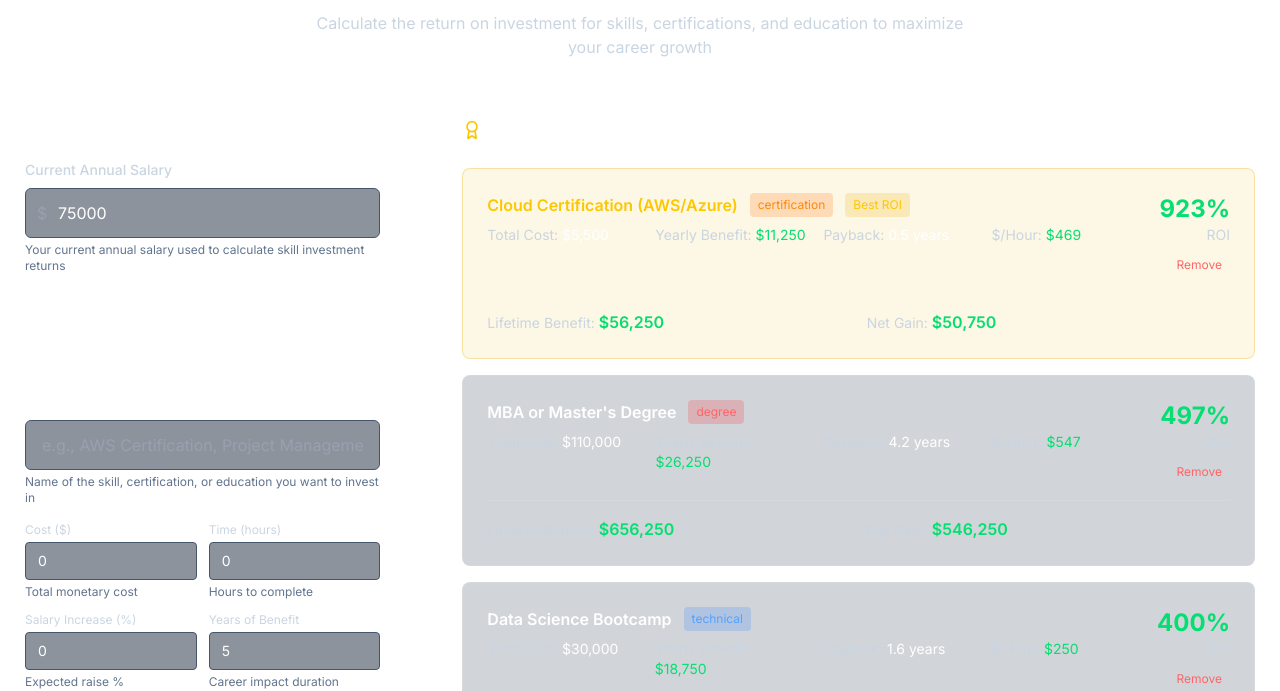
Test case: SkillInvestmentROICalculator › add skill button becomes enabled when required fields are filled
// Fill required fields
Type "Test Certification" into the field labelled "Skill/Certification Name". click: point(203, 445)
box: [25,420,380,470]
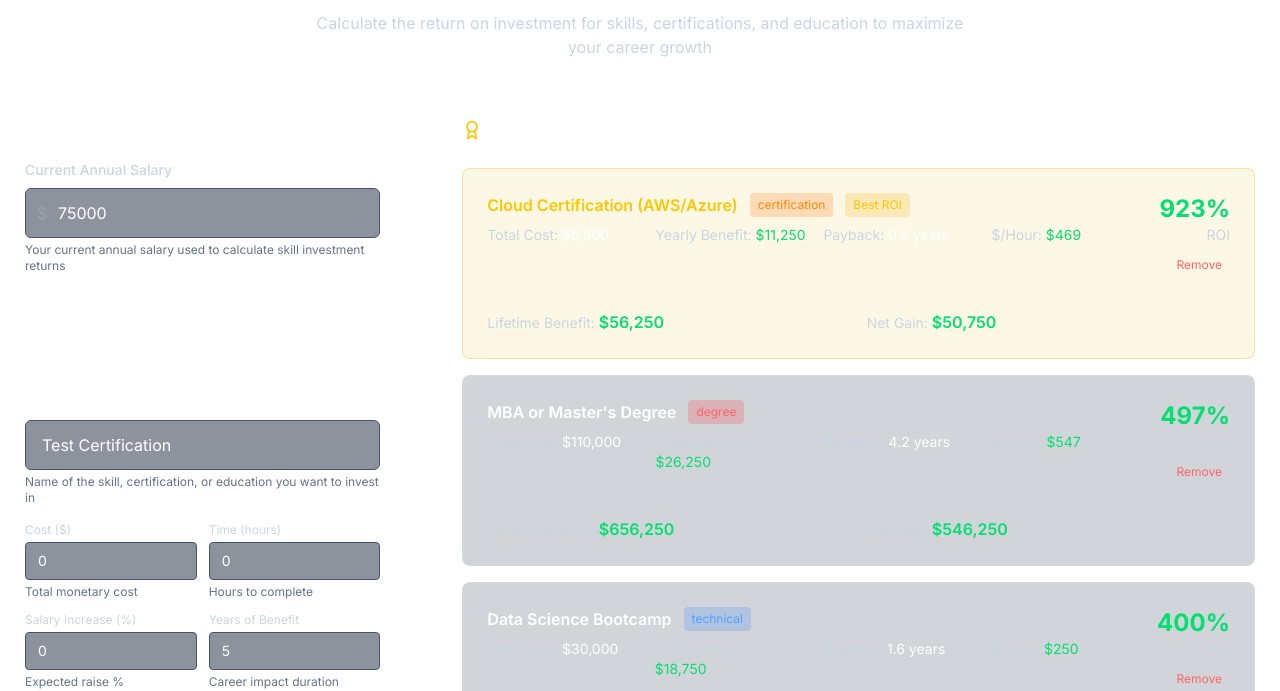
Replace the text in the number field labelled "Cost ($)" with "1000". click: point(111, 561)
box: [25,542,197,580]
(page scrolled)
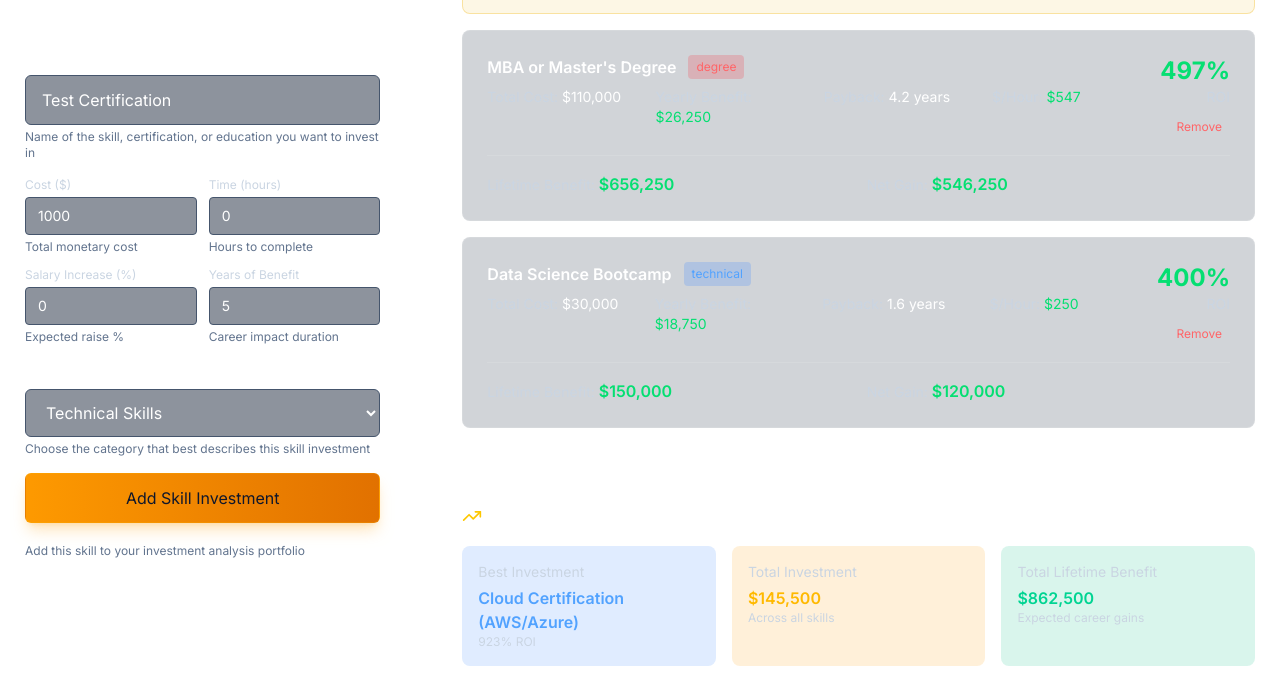
expect the button "Add Skill Investment" is enabled: met, box [25,473,380,523]
